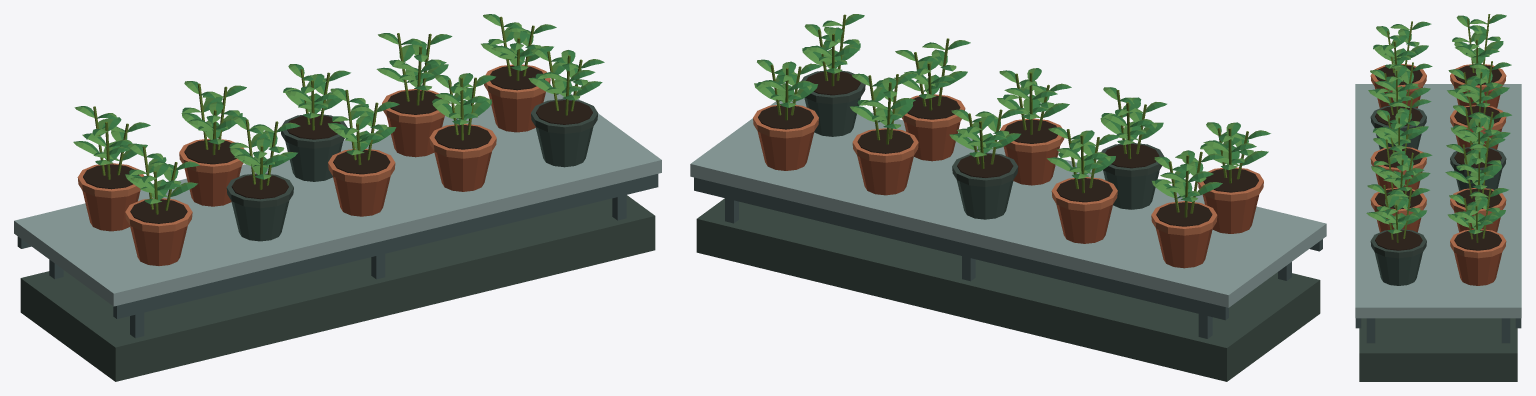
File: potted_bench.dae
3 renders of one model, left to right at view 1: azimuth 30°, elevation 25°; view 2: azimuth 150°, elevation 25°; view 3: azimuth 270°, elevation 25°, orthographic. The views are drawn at different scales.
Visible parts, largest first — view 1: model; view 2: model; view 3: model.
Boxes of the visible parts, x1=… form: model: x1=14, y1=14, x2=661, y2=381; model: x1=690, y1=14, x2=1326, y2=381; model: x1=1355, y1=14, x2=1521, y2=381.
Bounding box in the file's own units: 4 × 1.26 × 1.43.
